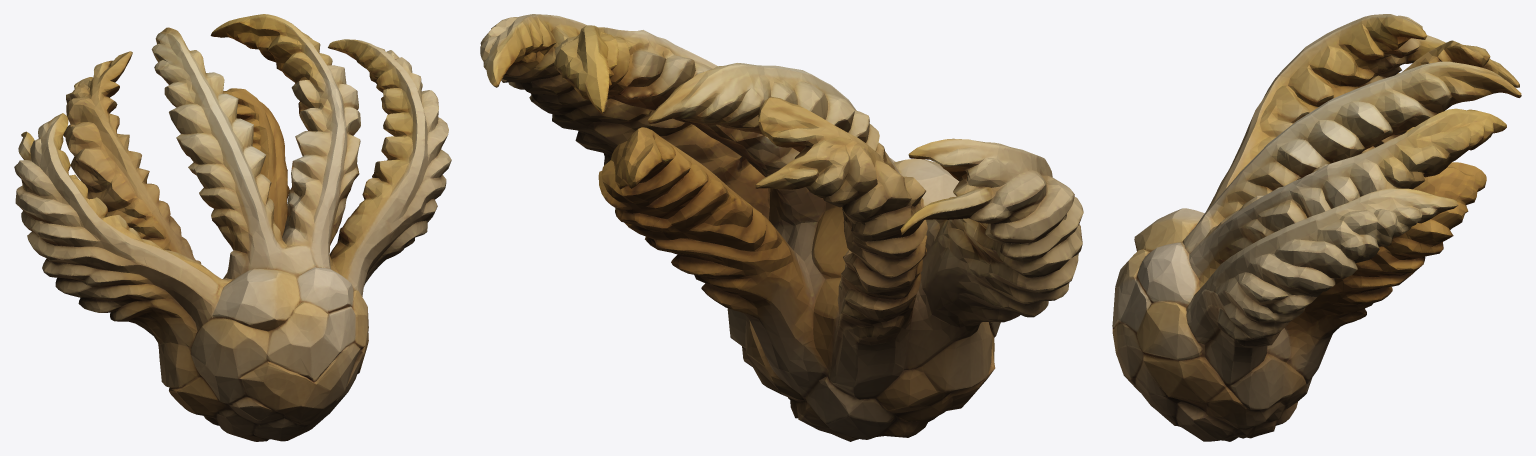
3 renders of one model, left to right at view 1: azimuth 30°, elevation 25°; view 2: azimuth 150°, elevation 25°; view 3: azimuth 270°, elevation 25°, orthographic. The views are drawn at different scales.
Parts seen in each view (by area): view 1: world; view 2: world; view 3: world.
Boxes of the visible parts, left/top/right/bottom form: world: left=14, top=14, right=451, bottom=441; world: left=480, top=14, right=1083, bottom=441; world: left=1112, top=14, right=1521, bottom=441.
Bounding box in the file's own units: 1 × 0.7833 × 0.7625.
Materials: 1 (1 with a texture image).
